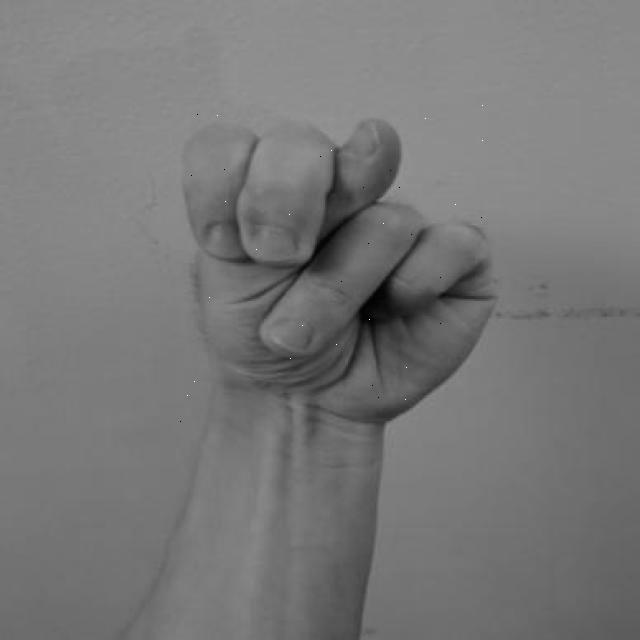N: (173, 102, 505, 432)
